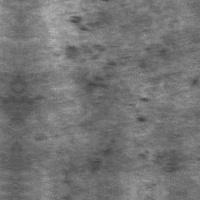rolled-in_scale: (63, 16, 138, 130), (85, 140, 186, 178)
